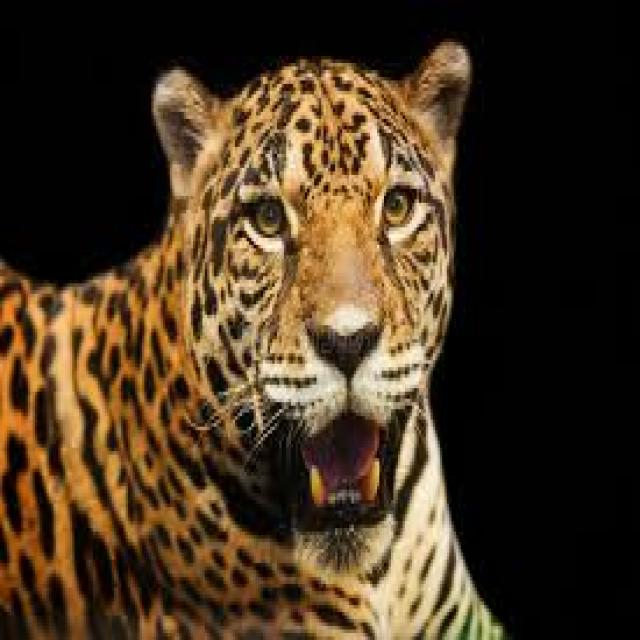Jaguar: (0, 42, 503, 640)
